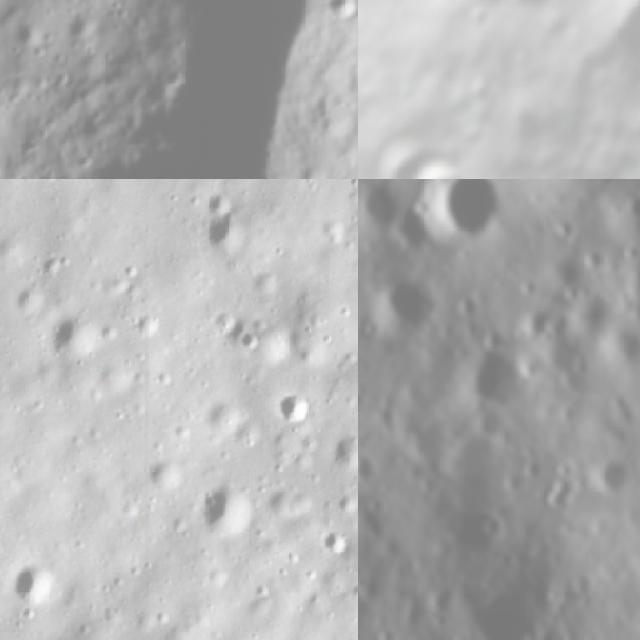crater: (400, 179, 517, 266), (364, 266, 456, 354), (444, 336, 537, 422), (538, 327, 606, 398), (500, 295, 566, 359), (363, 128, 437, 179), (196, 483, 256, 545), (358, 179, 417, 237), (581, 448, 636, 501), (48, 309, 96, 365), (10, 559, 58, 606), (199, 210, 252, 250), (201, 304, 252, 344), (396, 156, 481, 179), (358, 441, 394, 495), (450, 106, 490, 153), (454, 67, 494, 112), (272, 394, 312, 434), (326, 423, 358, 472), (613, 183, 640, 239), (457, 0, 494, 29), (486, 148, 515, 179), (320, 530, 347, 558), (326, 0, 358, 23)
